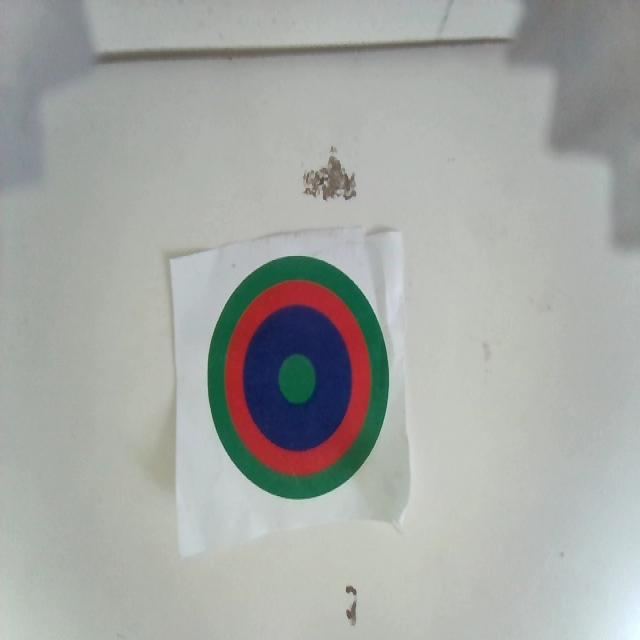cogn: (208, 254, 387, 497)
